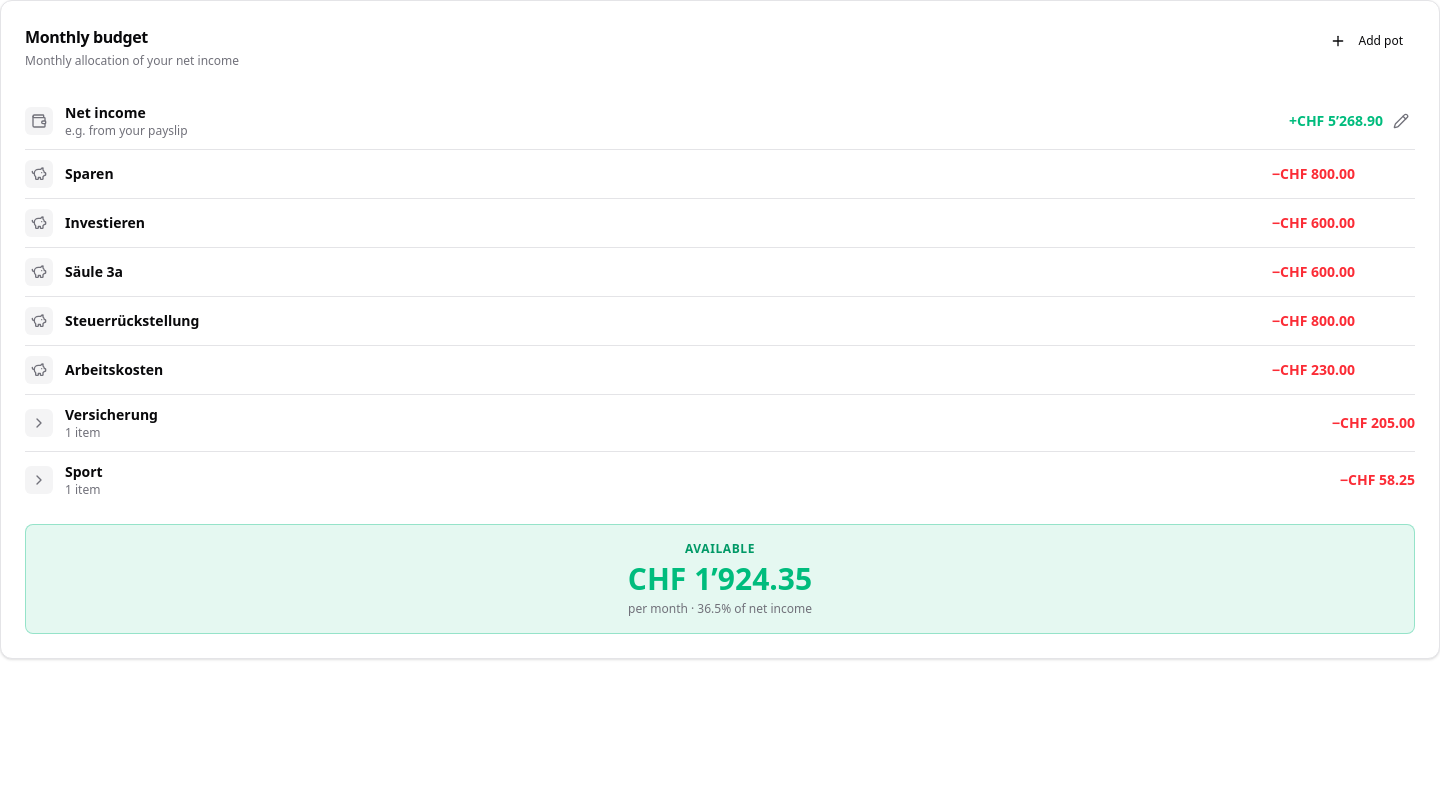
Test: MonthlyBudgetCard › renders the fixed-cost groups sorted by monthly total with collapsed items
Expected: the text "Sport" is shown, [65,462,103,482]
Expected: the text "−CHF 205.00" is shown, [1332,413,1415,433]
Click the text "Versicherung" at (112, 415), box [65,405,158,425]
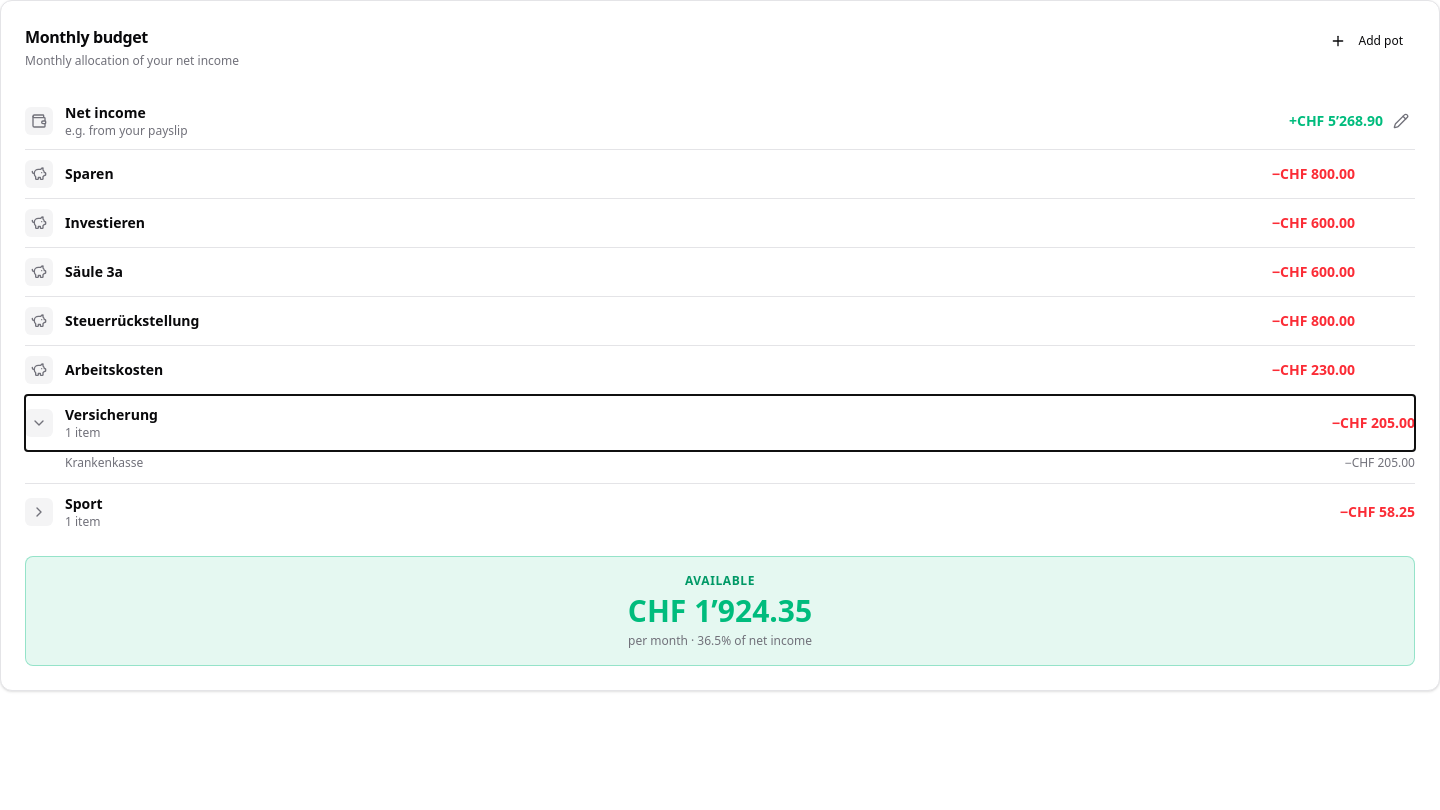
Expected: the text "Krankenkasse" is shown, [65,455,143,471]
